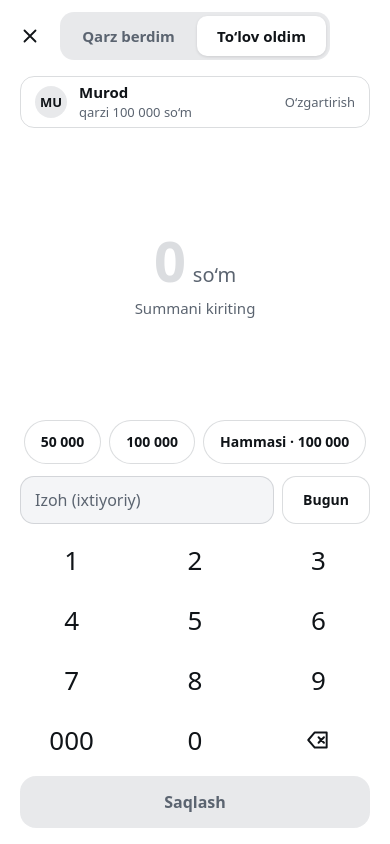
Test: AddEntry › ortiqcha to‘lov: Saqlash bloklangan, sabab va eng ko‘pi ko‘rsatiladi
Expected: the element with test id "amount" is shown, [154,230,236,290]
Click the button "1". click: (72, 560)
box: [12,532,131,588]
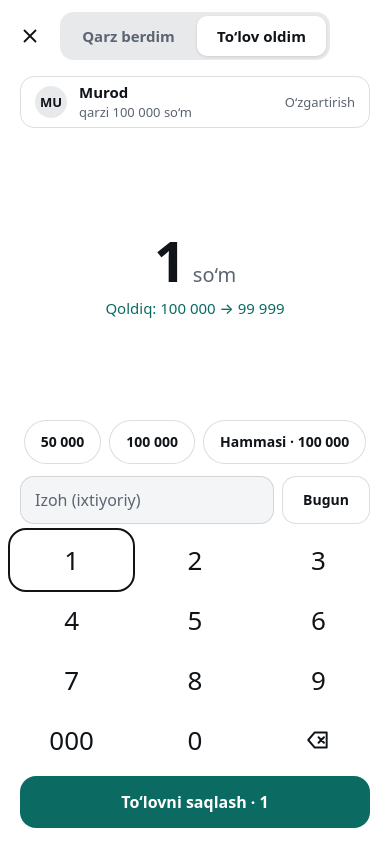
Click the button "5". click: (195, 620)
box: [135,592,255,648]
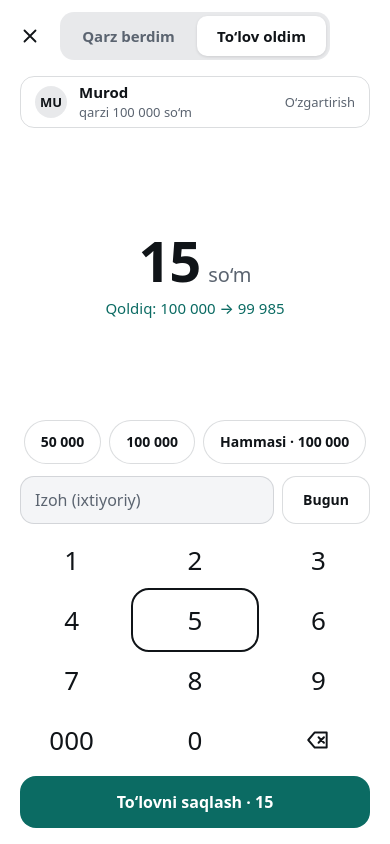
Click the button "0". click: (195, 740)
box: [135,712,255,768]
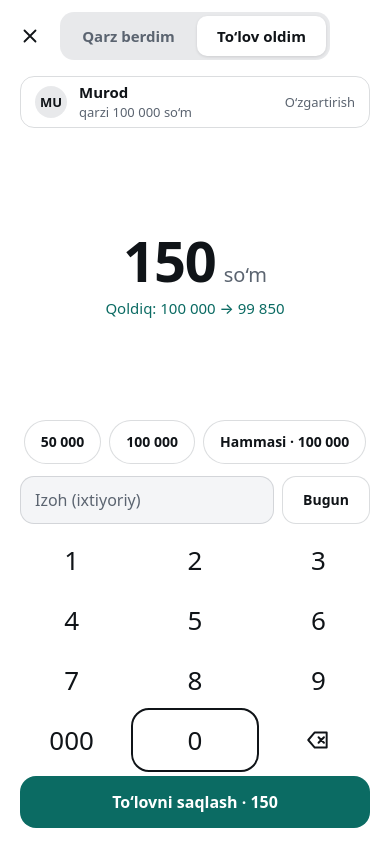
Click the button "0". click: (195, 740)
box: [135,712,255,768]
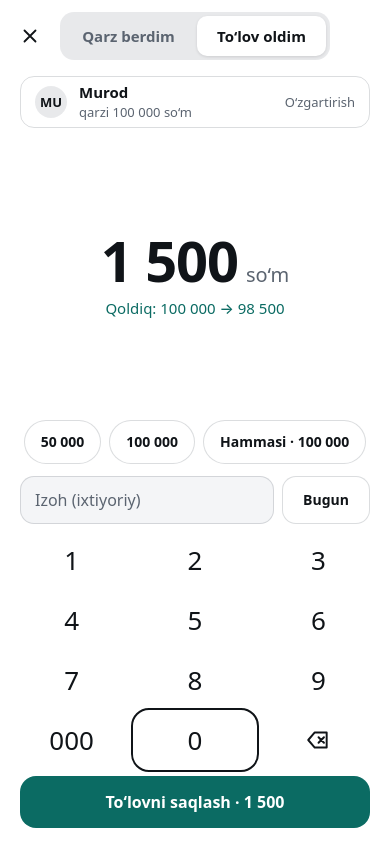
Click the button "0". click: (195, 740)
box: [135,712,255,768]
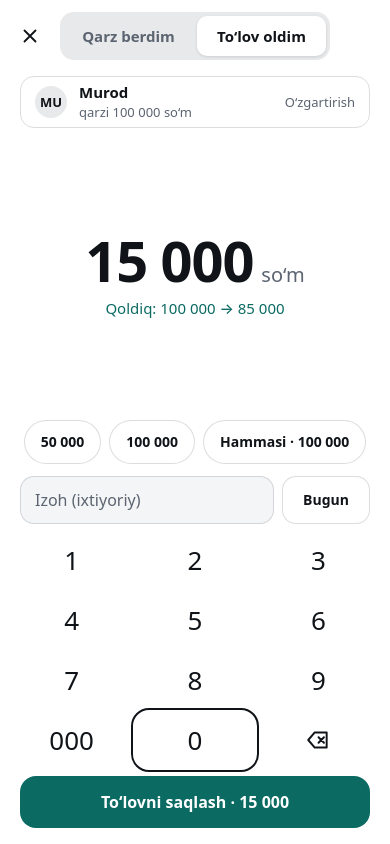
Click the button "0". click: (195, 740)
box: [135,712,255,768]
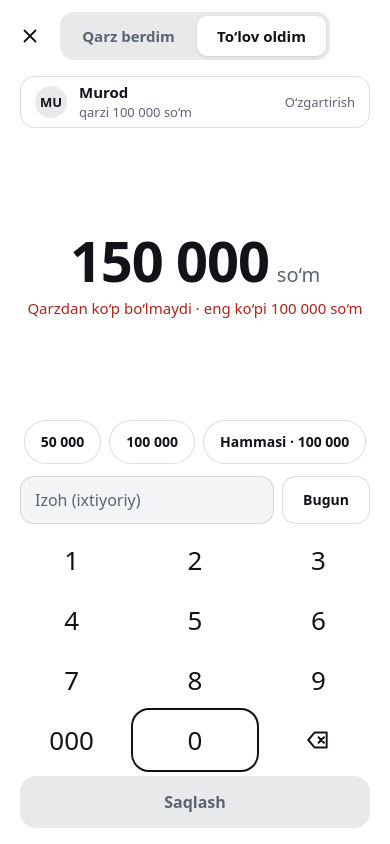
Now the message reads "Qarzdan ko‘p bo‘lmaydi · eng ko‘pi 100 000 so‘m", box [27,298,363,318]
Now the button "Saqlash" is disabled, box [20,776,370,828]
